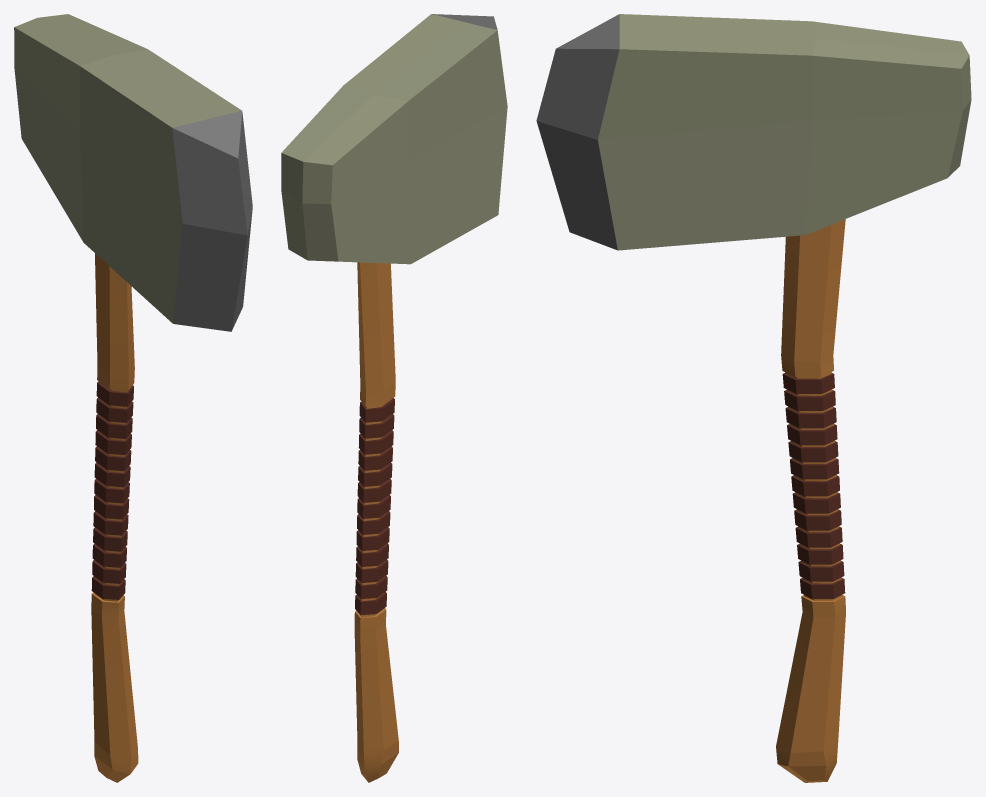
Rendered from Axe22.glb.
3 renders of one model, left to right at view 1: azimuth 30°, elevation 25°; view 2: azimuth 150°, elevation 25°; view 3: azimuth 270°, elevation 25°, orthographic. The views are drawn at different scales.
Parts seen in each view (by area): view 1: weapon_generator; view 2: weapon_generator; view 3: weapon_generator.
Boxes of the visible parts, <box> form: weapon_generator: <box>14,14,252,782</box>; weapon_generator: <box>281,14,507,782</box>; weapon_generator: <box>536,14,971,782</box>.
Size of the model in its own units: 0.0839 by 0.8348 by 0.4381.
